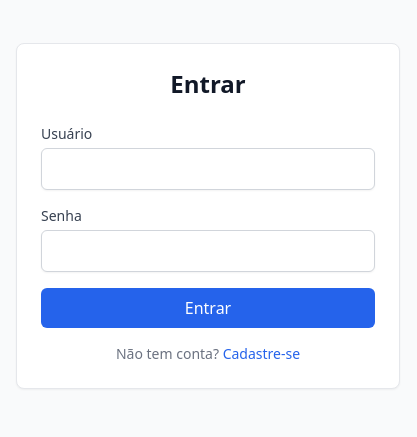
Test: LoginPage › exibe erro e libera o botão quando authStore.login lança exceção (servidor fora)
Type "joao" into the field labelled "Usuário" at (208, 169), box top-left (41, 148), bottom-right (375, 190)
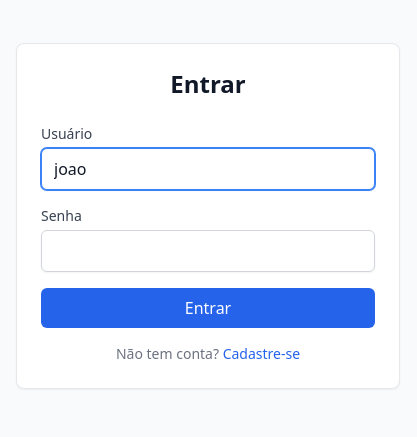
Type "senha123" into the password field labelled "Senha" at (208, 251), box top-left (41, 230), bottom-right (375, 272)
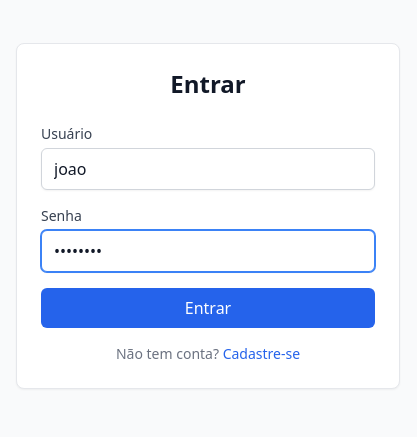
Click the button "Entrar" at (208, 308), box top-left (41, 288), bottom-right (375, 328)
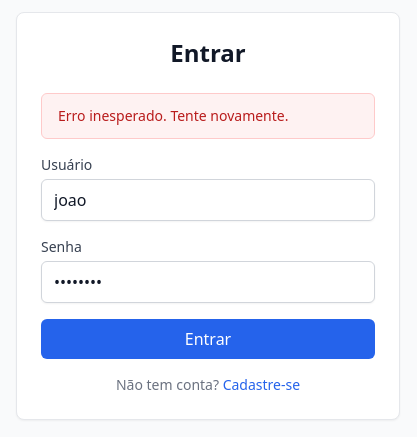
Expected: the button "Entrar" is enabled, top-left (41, 319), bottom-right (375, 359)
Expected: the message "Erro inesperado. Tente novamente." is shown, top-left (41, 93), bottom-right (375, 139)
